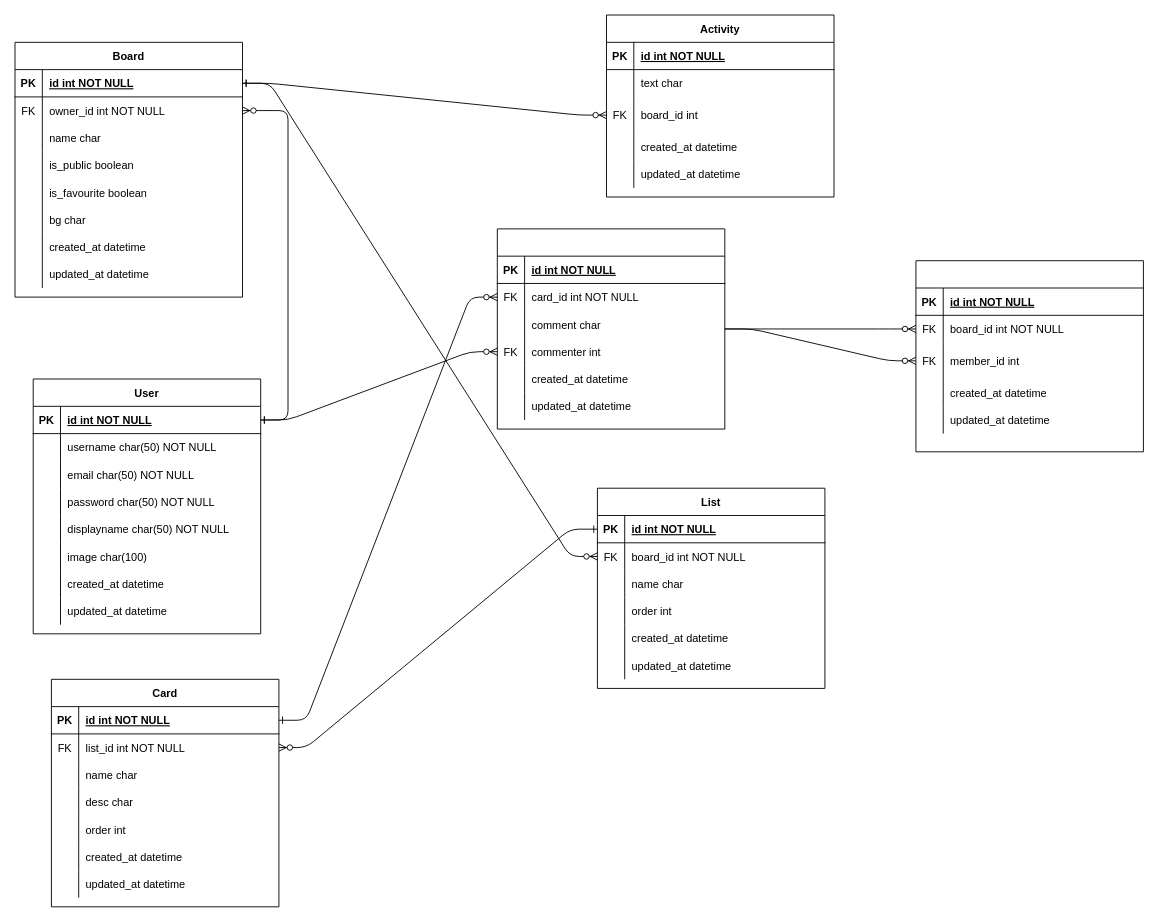
The diagram is 1158 pixels wide and 922 high, and some of its shapes have lost their labels. Here are the shapes that lost their labels. From the top down, the box of each, then its label:
(496, 228, 725, 429): CardComment
(915, 260, 1143, 452): BoardPermissions
